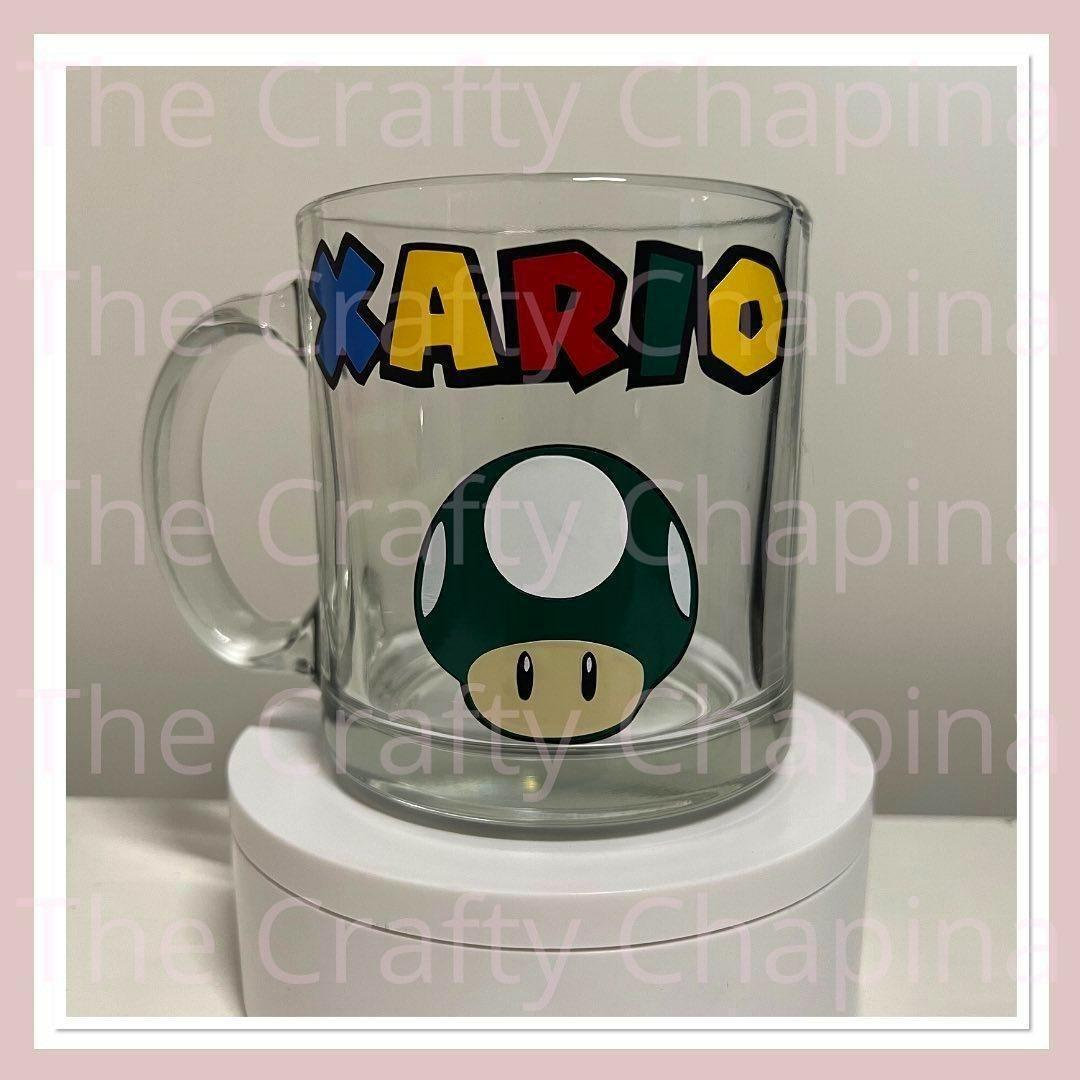glass-mug: (133, 149, 826, 842)
